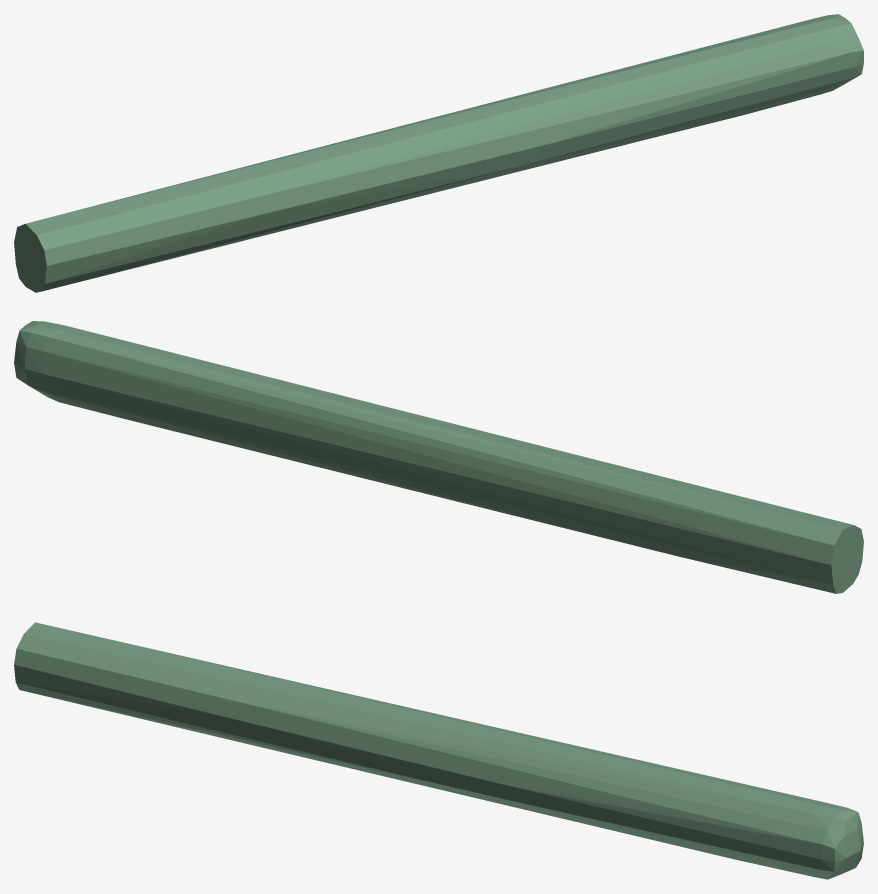
3 views of the same model, one above another, from view 1: azimuth 30°, elevation 25°; view 2: azimuth 150°, elevation 25°; view 3: azimuth 330°, elevation 25° (orthographic).
Size of the model in its own units: 0.1092 by 0.00909 by 0.00794.
